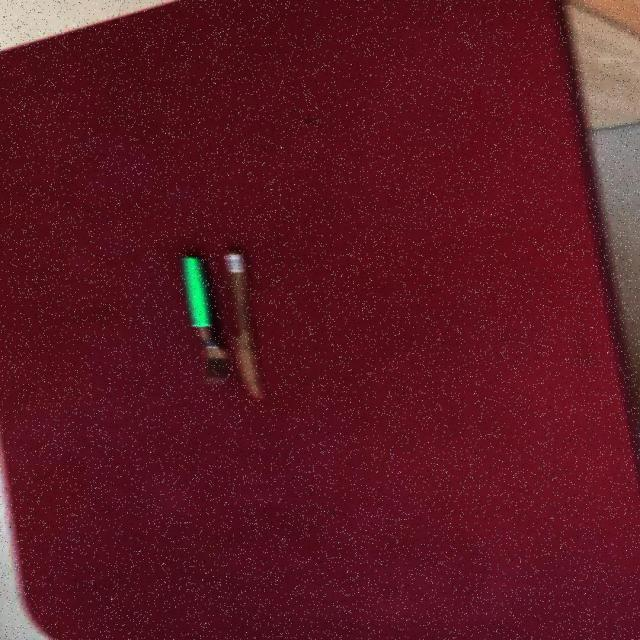Fork: (225, 245, 268, 400), (182, 254, 232, 385)
Knife: (225, 245, 268, 400), (182, 254, 232, 385)
